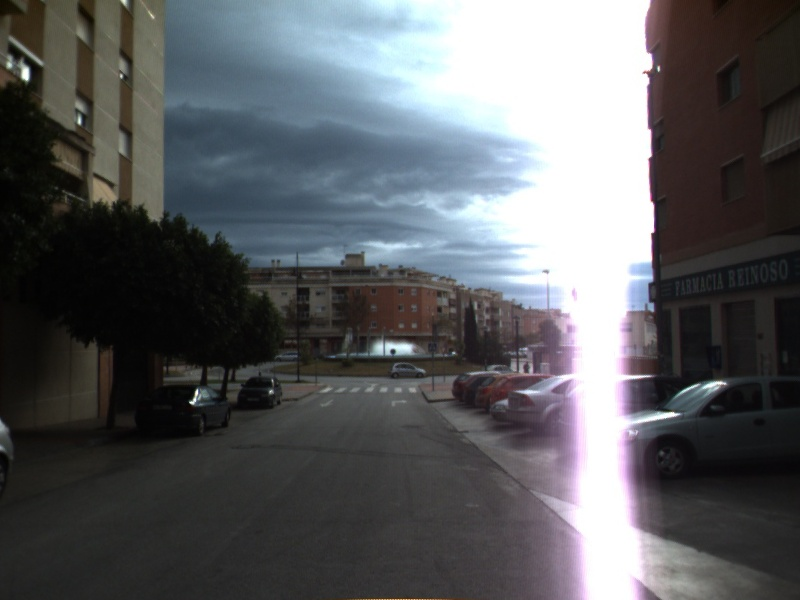RIGHT: (390, 397, 410, 408)
